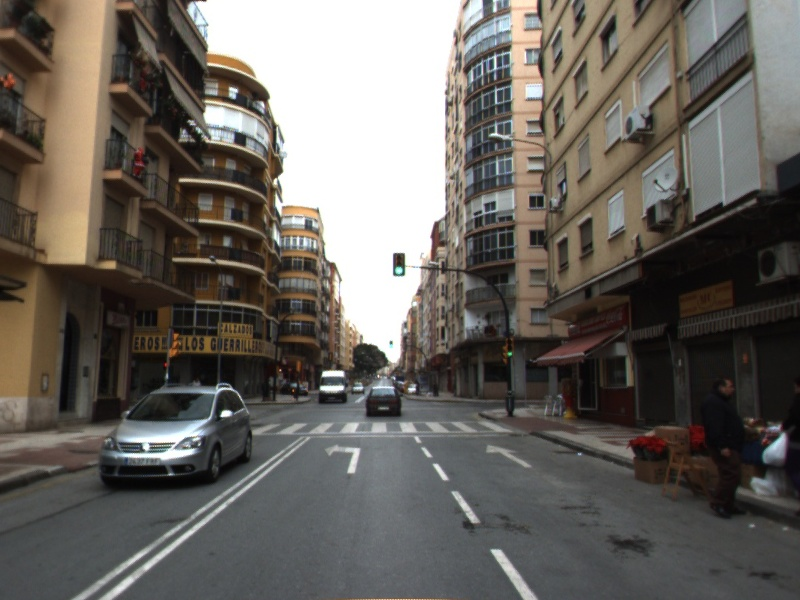LEFT: (323, 442, 363, 475)
STRAIGHT: (484, 443, 534, 469)
